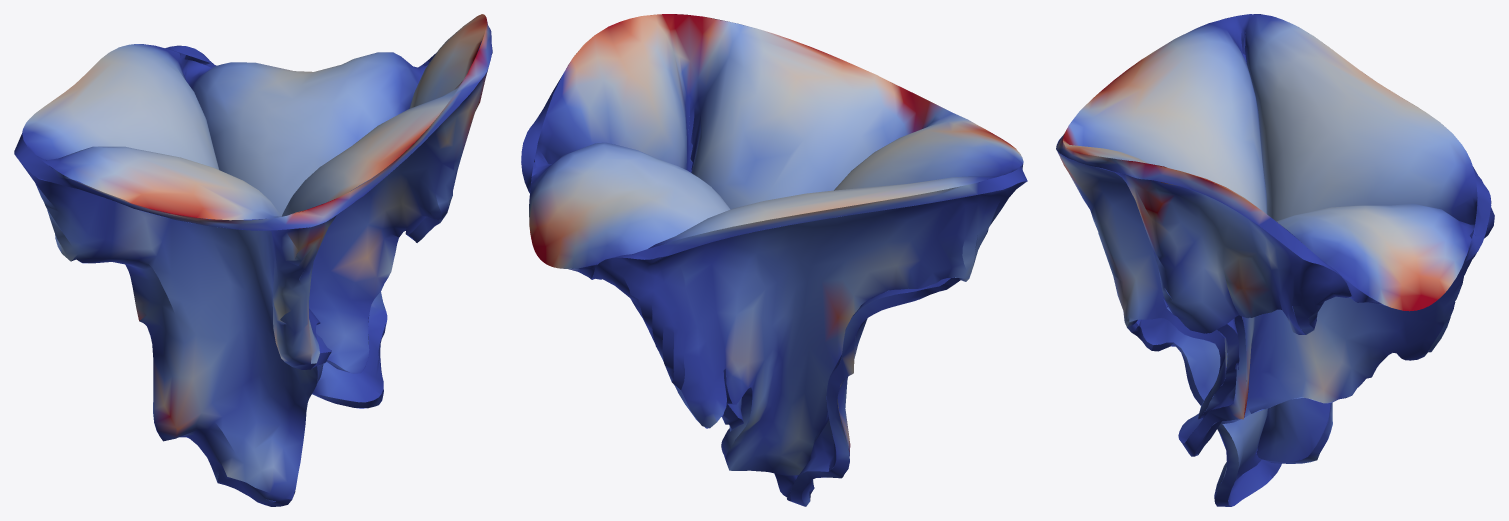
3 renders of one model, left to right at view 1: azimuth 30°, elevation 25°; view 2: azimuth 150°, elevation 25°; view 3: azimuth 270°, elevation 25°, orthographic. The views are drawn at different scales.
Parts seen in each view (by area): view 1: OCS14_maxS_13; view 2: OCS14_maxS_13; view 3: OCS14_maxS_13.
Boxes of the visible parts, x1=… form: OCS14_maxS_13: x1=14, y1=14, x2=492, y2=506; OCS14_maxS_13: x1=521, y1=14, x2=1027, y2=506; OCS14_maxS_13: x1=1056, y1=14, x2=1494, y2=506.
Bounding box in the file's own units: 1.42 × 1.26 × 1.19.
